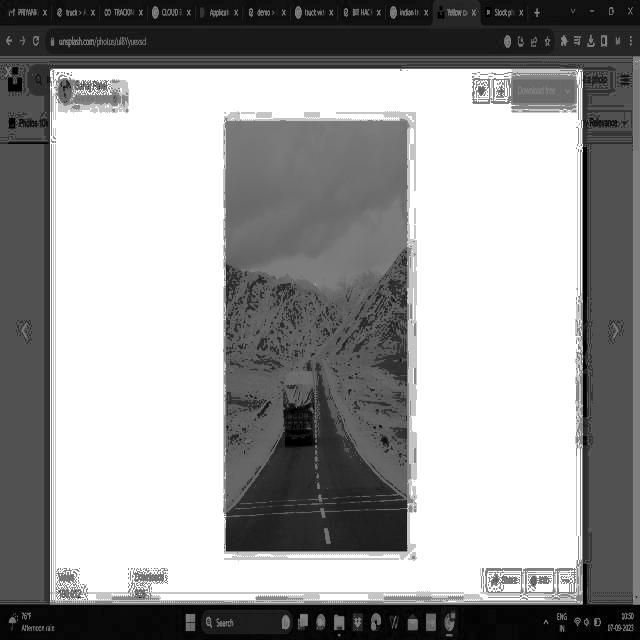HCV: (274, 356, 332, 471)
